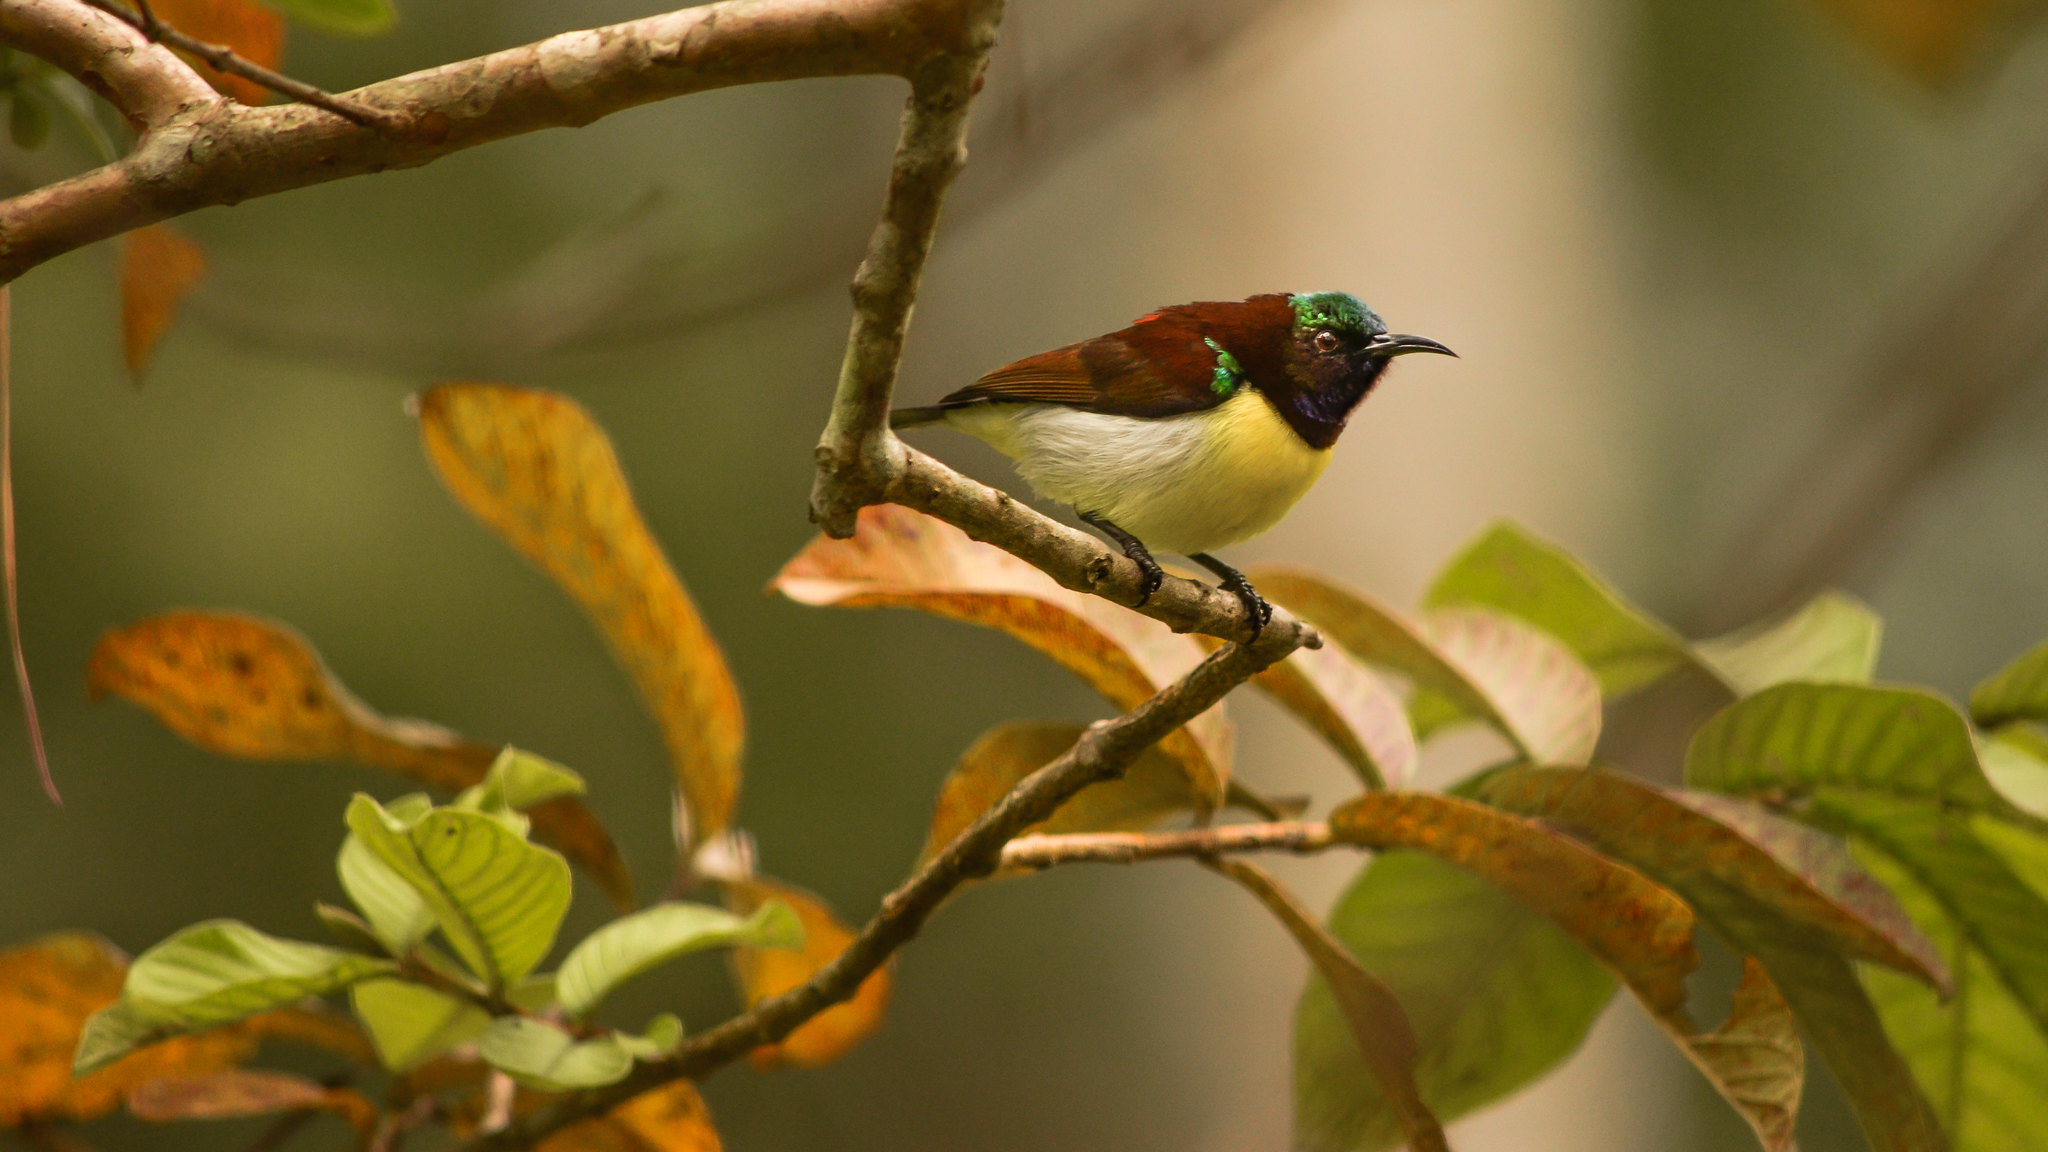bird: (933, 288, 1461, 646)
